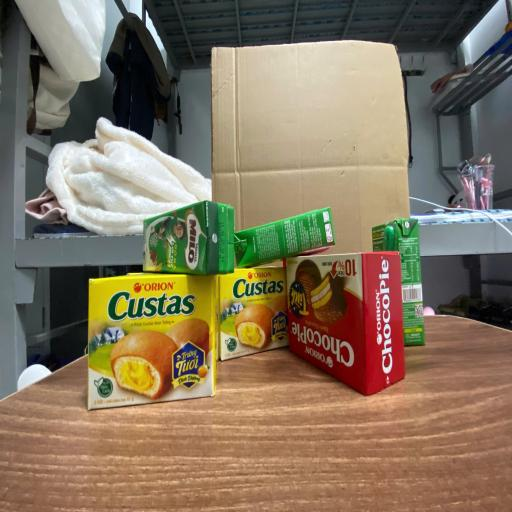chocopie: (286, 252, 405, 396)
custas: (87, 271, 218, 410), (218, 267, 288, 362)
milo: (371, 218, 425, 346), (143, 201, 235, 274), (233, 208, 336, 266)
